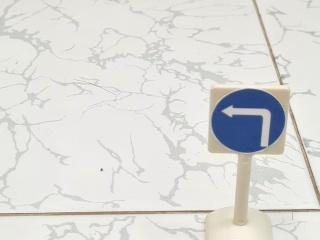left: (208, 85, 287, 158)
